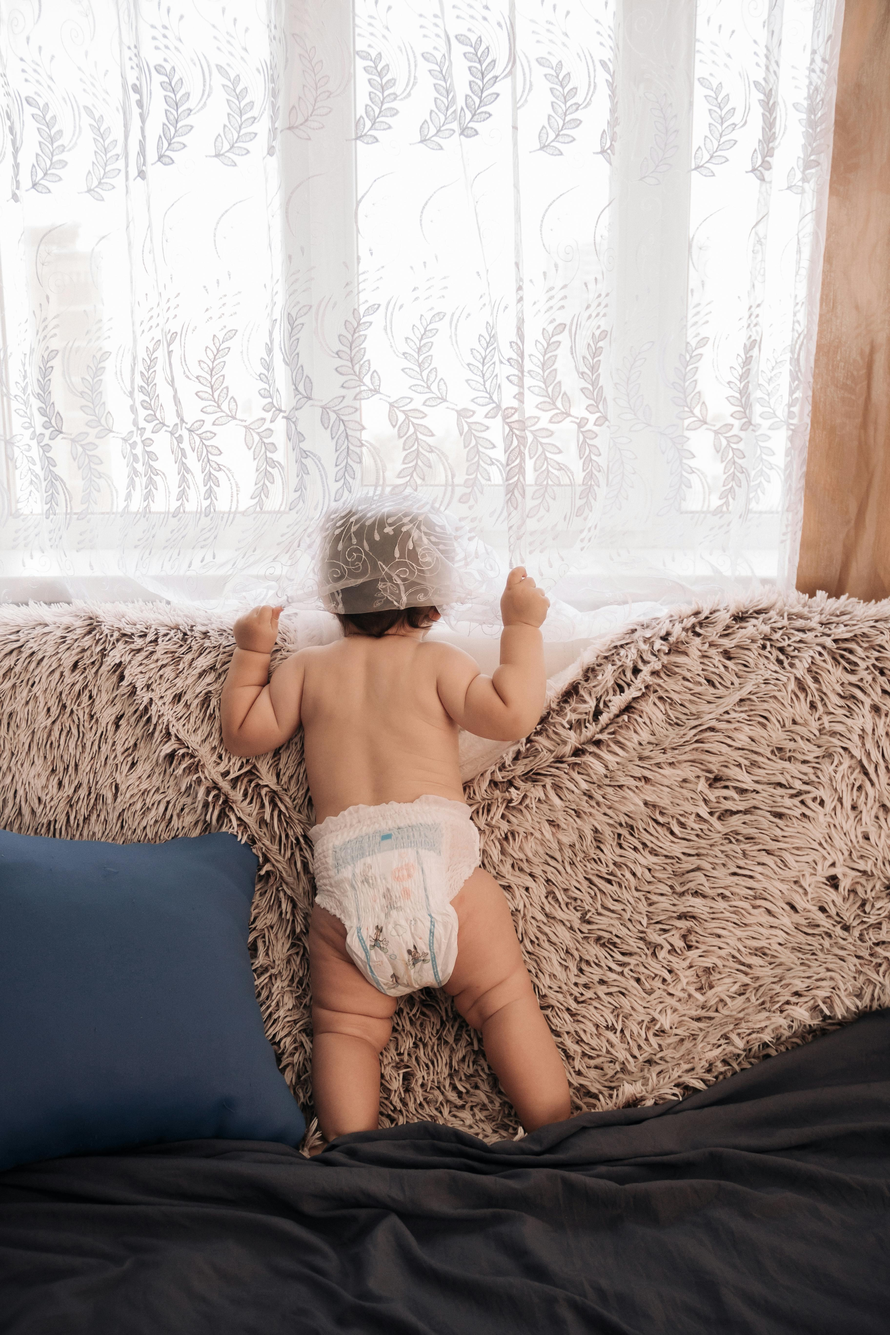Human: (223, 508, 600, 1164)
